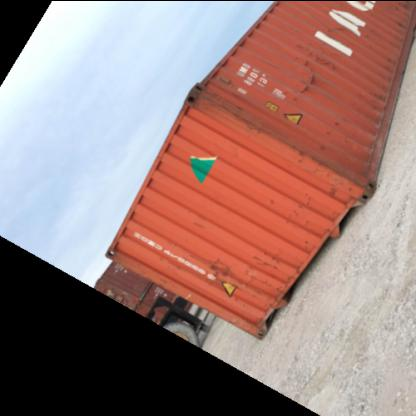Damage: (172, 74, 276, 136), (291, 113, 354, 176), (235, 240, 282, 306), (290, 42, 336, 102), (367, 49, 399, 112), (280, 191, 315, 234), (206, 250, 230, 284), (380, 1, 412, 26), (320, 21, 356, 36), (187, 214, 211, 233), (262, 192, 276, 209), (324, 189, 339, 203)
